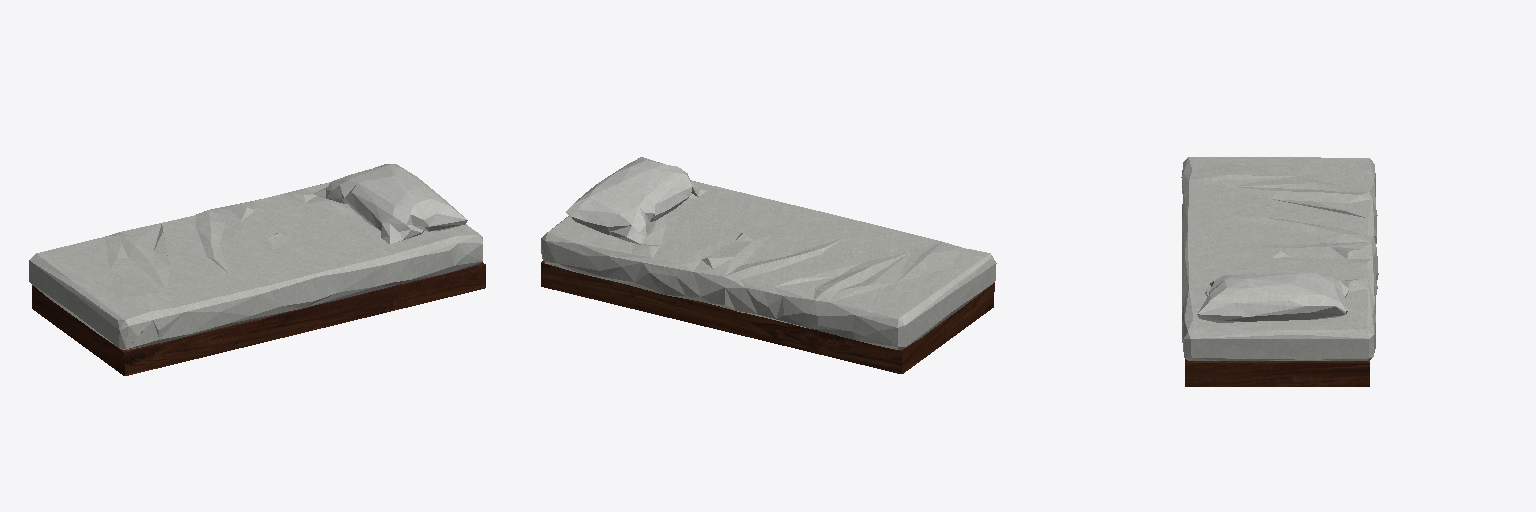
3 renders of one model, left to right at view 1: azimuth 30°, elevation 25°; view 2: azimuth 150°, elevation 25°; view 3: azimuth 270°, elevation 25°, orthographic.
Visible parts, largest first — view 1: bed; view 2: bed; view 3: bed.
Boxes of the visible parts, x1=… form: bed: x1=29, y1=164, x2=485, y2=375; bed: x1=541, y1=157, x2=996, y2=373; bed: x1=1181, y1=157, x2=1378, y2=386.
Size of the model in its own units: 2.46 by 0.5426 by 1.15.
1 materials, 1 textured.